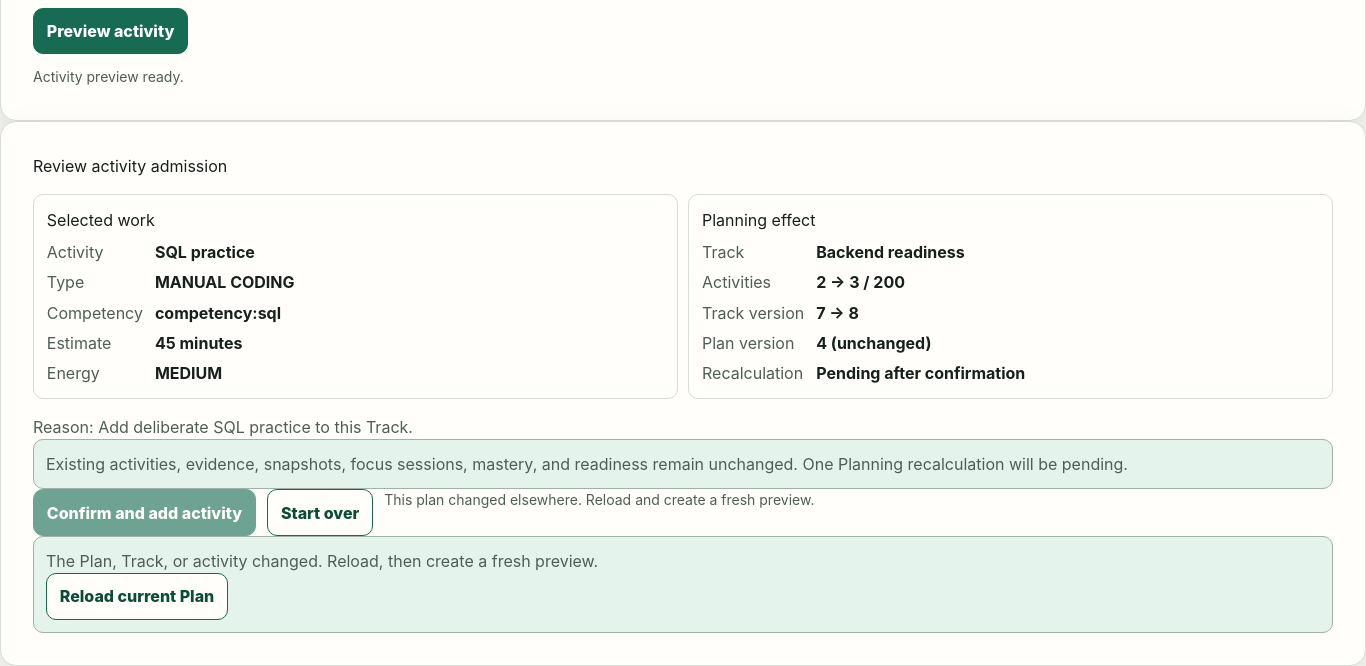
Test: ActivityAdmission › offers a safe reload for a stale exact preview
(page scrolled)
Expected: the button "Confirm and add activity" is disabled, x1=33 y1=489 x2=256 y2=536
What coordinates should you click on to do the following:
click the button "Reload current Plan"
I would click on:
 (137, 596)
Its box is x1=46 y1=573 x2=228 y2=620.
(page scrolled)
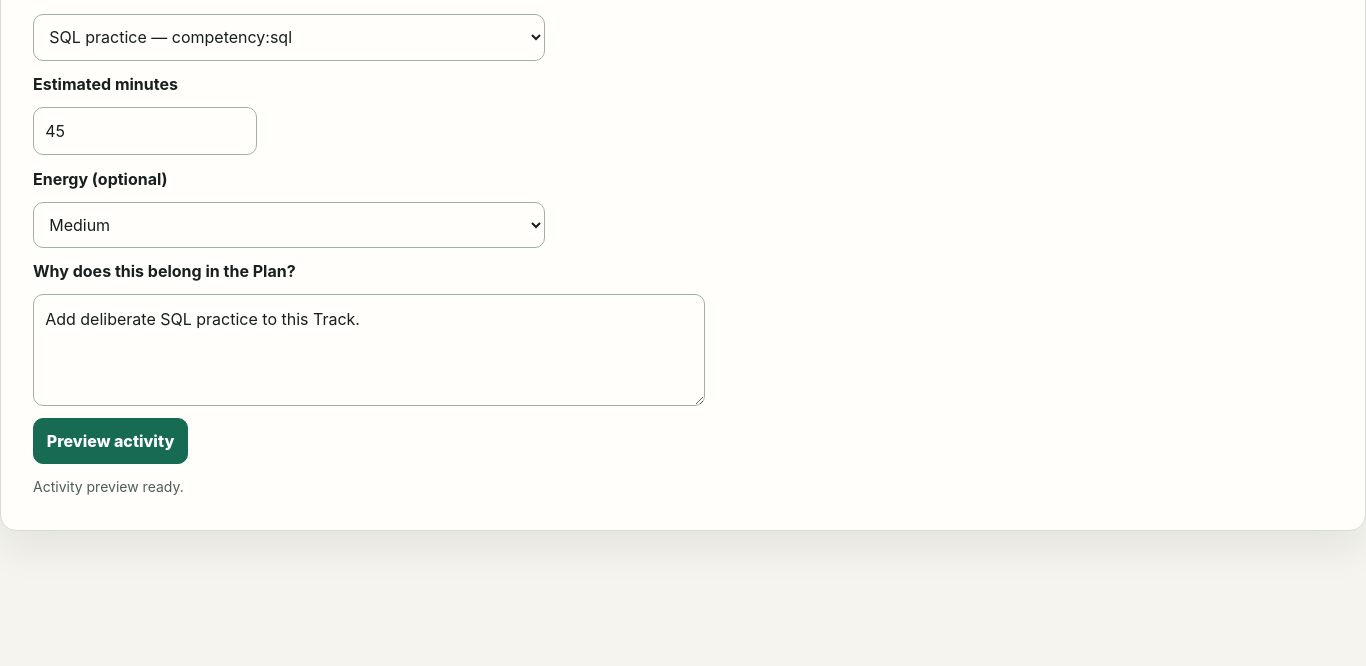
Result: the button "Confirm and add activity" is gone
